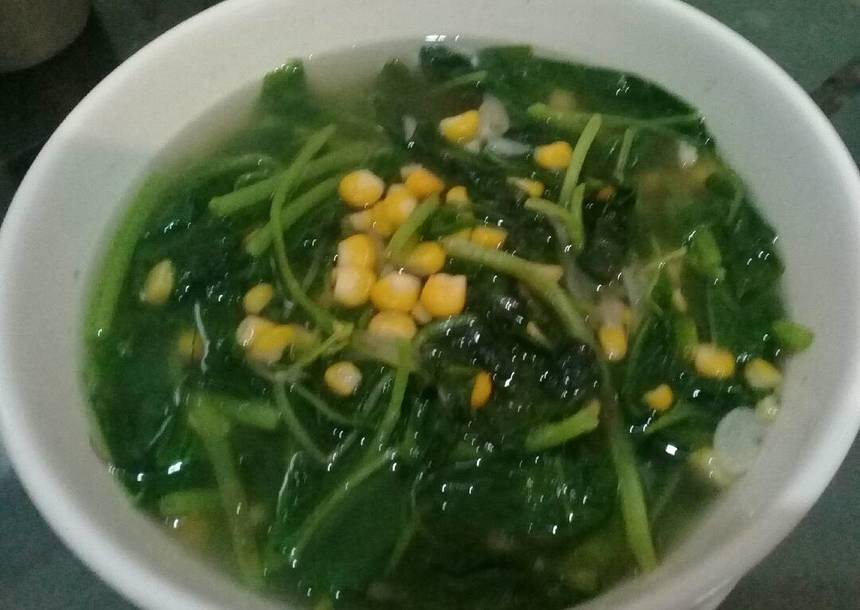Sayur Bayam: (90, 55, 779, 580)
